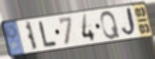1: (24, 20, 39, 52)
4: (81, 14, 96, 42)
7: (58, 16, 75, 47)
J: (120, 6, 138, 38)
L: (38, 21, 59, 48)
Q: (100, 10, 121, 41)
